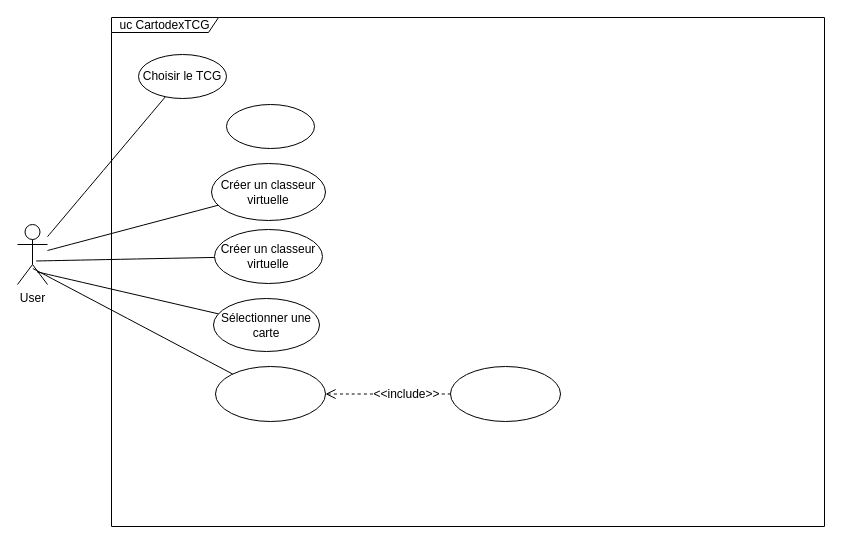
Some shapes in this 842 by 544 pixel diagram are drawn without their labels. Here are the shapes that lost their labels. From the top down, the centre of each, then its label:
the point at 270,126: Choisir la série
the point at 270,394: Ajouter une carte au classeur
the point at 505,394: Mettre a jour les cartes manquante et obtenu
